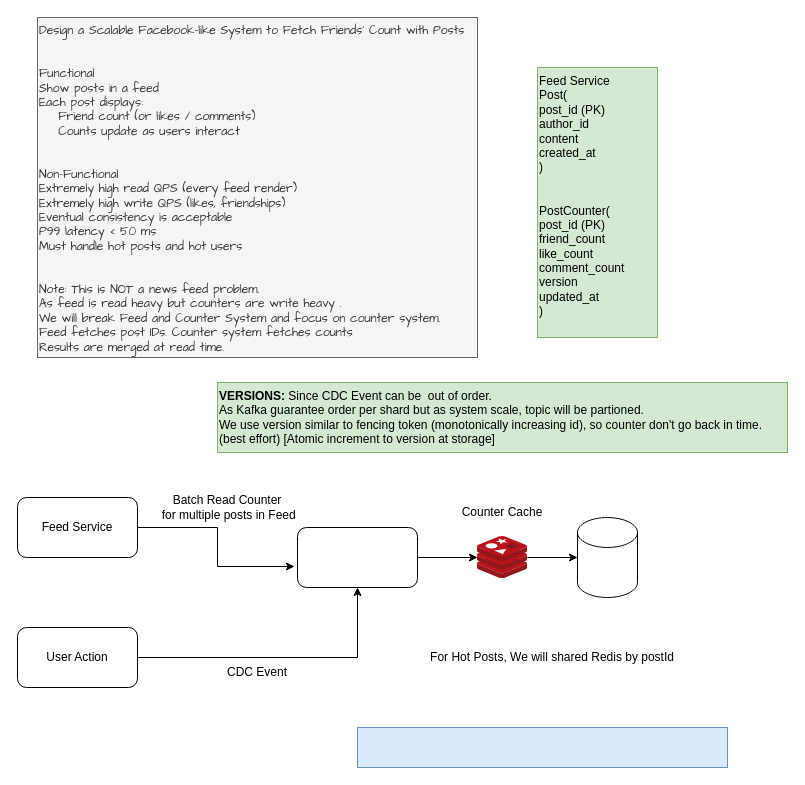
Some shapes in this 805 by 785 pixel diagram are drawn without their labels. Each missing label, with the box of its shape:
Cache Write: Hot Post, Push Data to cache and Normal Post Pull data in cache: (356, 726, 728, 768)
Counter Service: (296, 526, 418, 588)
PostCounter: (576, 516, 638, 598)
